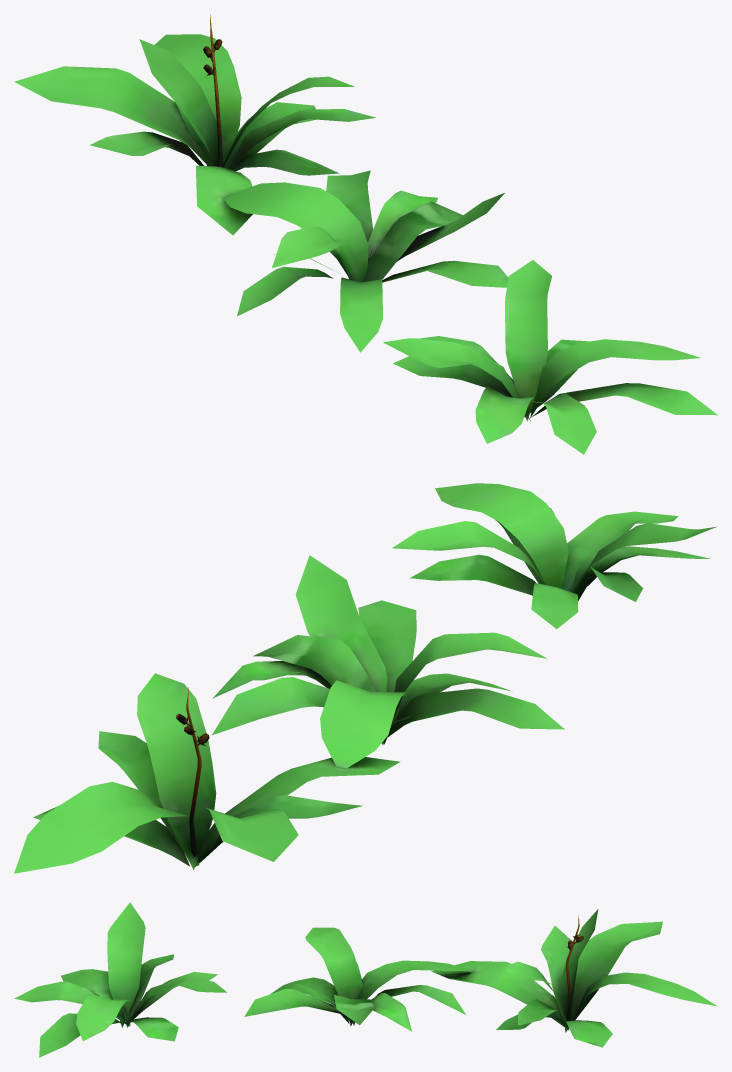
Rendered from Plant.glb.
3 renders of one model, top to bottom at view 1: azimuth 30°, elevation 25°; view 2: azimuth 150°, elevation 25°; view 3: azimuth 270°, elevation 25°, orthographic. The views are drawn at different scales.
Parts seen in each view (by area): view 1: Plant_03, Plant_01, Plant_02; view 2: Plant_01, Plant_03, Plant_02; view 3: Plant_03, Plant_02, Plant_01.
Part boxes in pixels (x1,y1,x2,y2): Plant_03: (14,14,375,235); Plant_01: (223,170,508,352); Plant_02: (383,260,717,454); Plant_01: (212,555,564,768); Plant_03: (14,673,400,873); Plant_02: (392,483,716,628); Plant_03: (431,909,717,1047); Plant_02: (14,902,226,1057); Plant_01: (244,927,473,1031).
Bounding box in the file's own units: 1.05 × 0.5892 × 3.15.
1 material, 1 textured.
